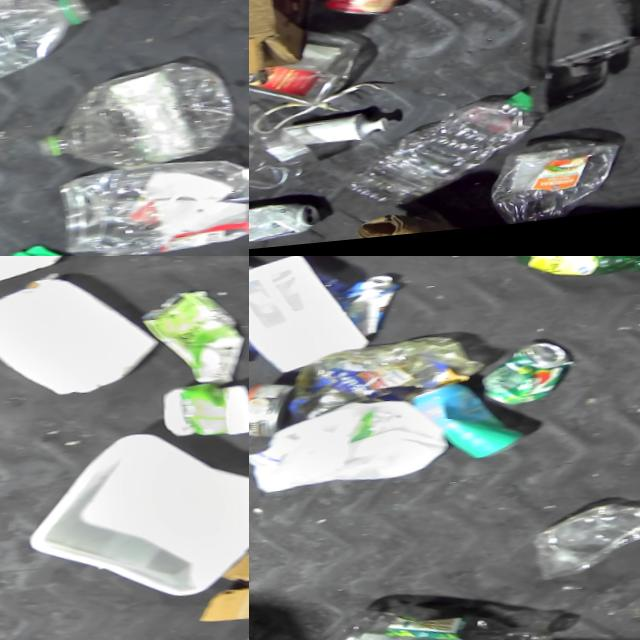can: (406, 379, 511, 473), (465, 352, 566, 418), (249, 197, 317, 253), (249, 379, 299, 444), (311, 0, 424, 22)
milk_jug: (249, 400, 435, 499)
plastic_bottle: (329, 95, 540, 215), (23, 74, 226, 187), (478, 132, 617, 233), (0, 0, 89, 112), (326, 599, 531, 640)
